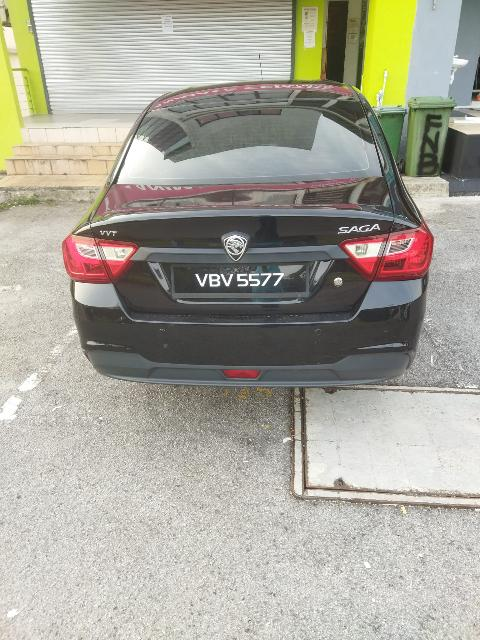License_Plate: (180, 266, 301, 297)
car: (70, 75, 430, 384)
